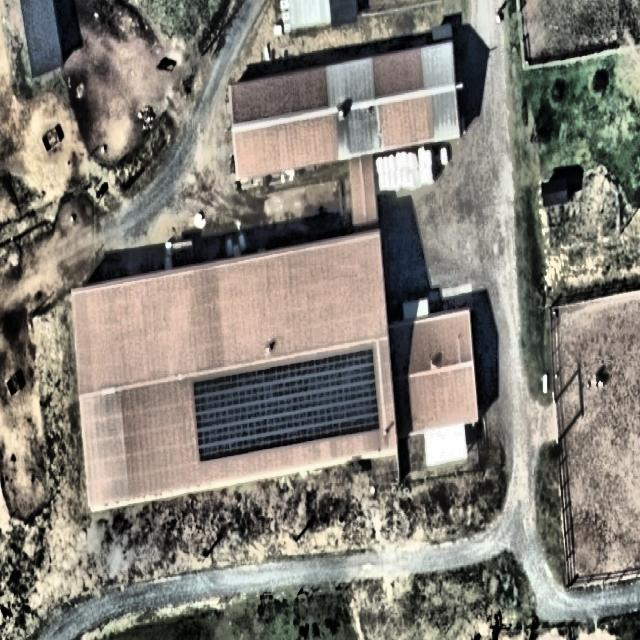roof_pv: (192, 361, 258, 471), (320, 341, 382, 446), (259, 356, 319, 456)
